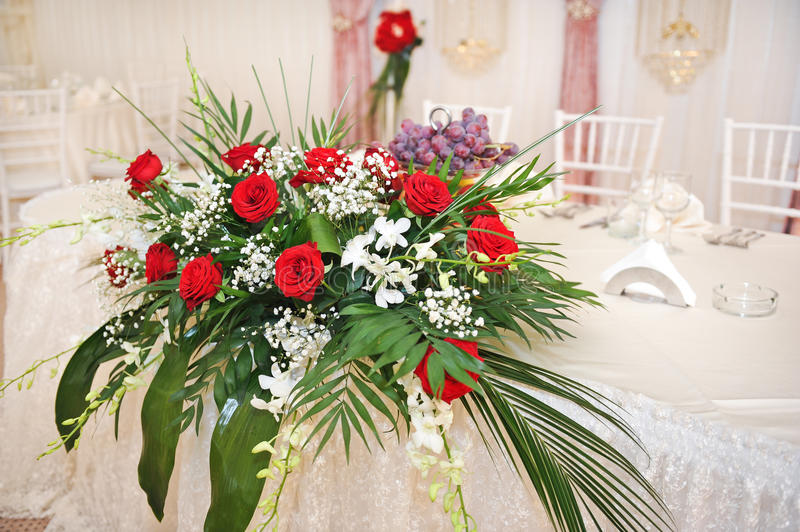RedRose: (423, 333, 484, 404), (267, 241, 331, 303), (467, 215, 521, 274), (292, 141, 351, 187), (177, 256, 228, 308), (230, 176, 283, 224), (357, 139, 404, 188), (406, 167, 448, 221), (461, 182, 505, 224), (142, 241, 181, 284), (128, 144, 167, 185), (223, 141, 271, 173), (101, 245, 139, 284), (121, 178, 148, 208)
